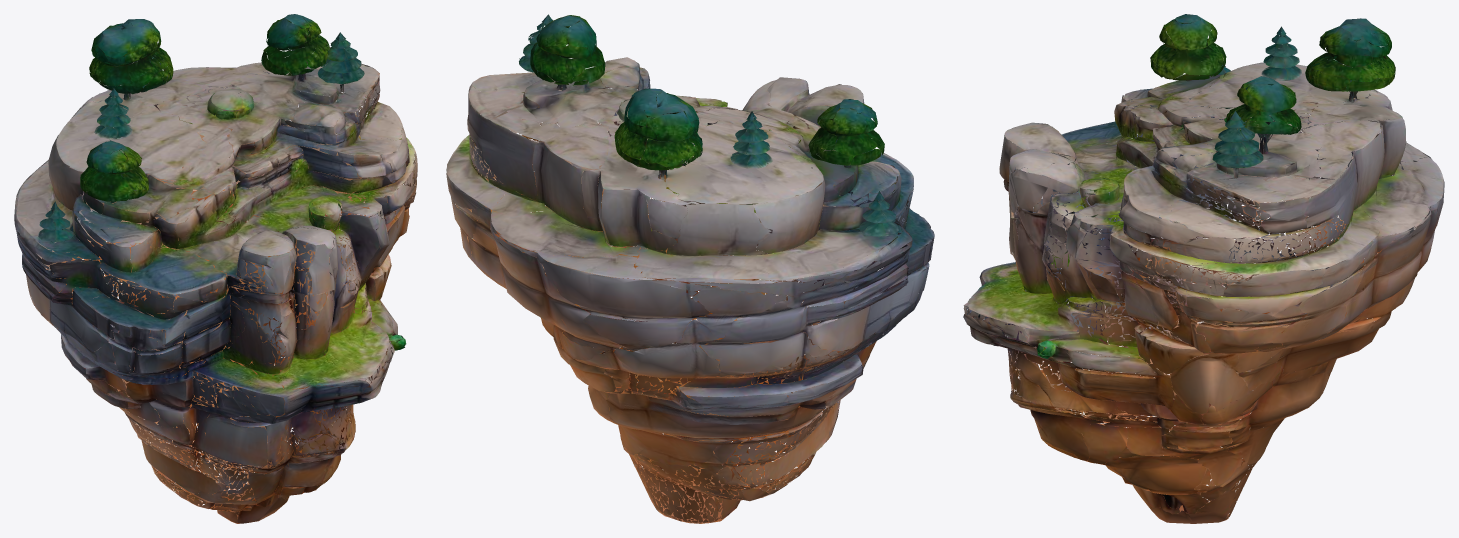
The model's file is fab_island_2.glb.
3 renders of one model, left to right at view 1: azimuth 30°, elevation 25°; view 2: azimuth 150°, elevation 25°; view 3: azimuth 270°, elevation 25°, orthographic. The views are drawn at different scales.
Visible parts, largest first — view 1: material; view 2: material; view 3: material.
Part boxes in pixels (box(x1,y1,x2,y2)): material: box(14, 14, 417, 523); material: box(446, 14, 934, 523); material: box(963, 14, 1444, 523).
Bounding box in the file's own units: 0.9239 × 1.04 × 0.9458.
Materials: 1 (1 with a texture image).
